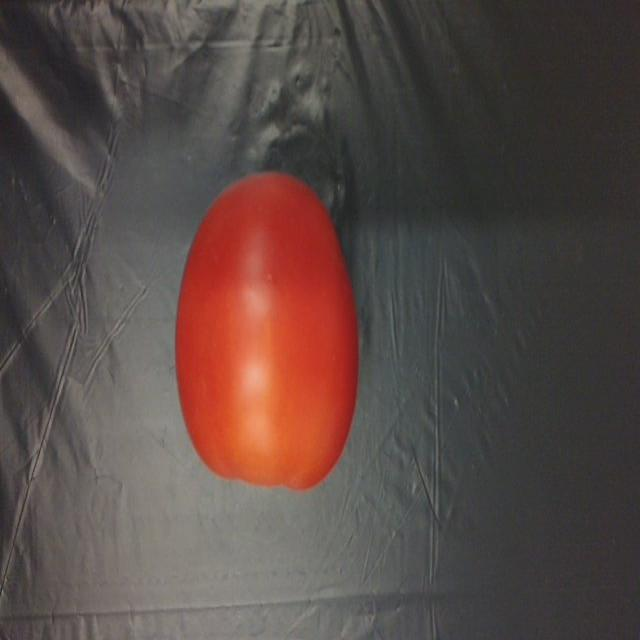kirmizi: (162, 166, 382, 514)
